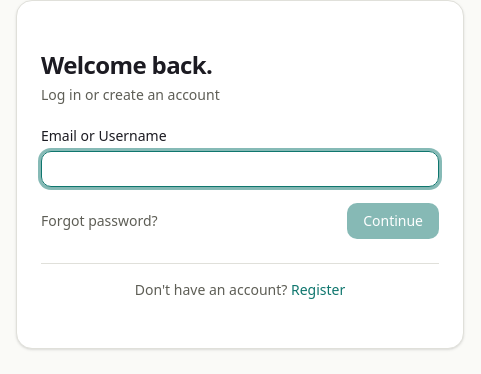
LoginCard second factors › keeps Continue disabled until the TOTP code has six characters
Type "teacher" into the field labelled "Email or Username".
click(240, 169); type("teacher")  # box [41,151,439,187]
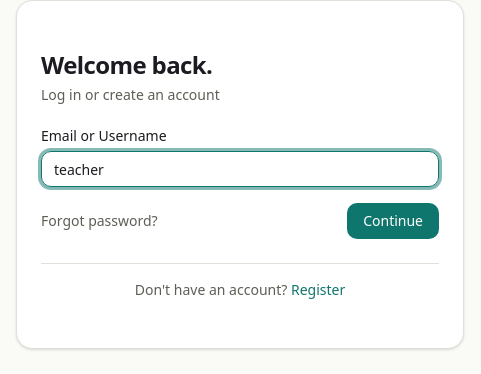
Click the button "Continue".
click(393, 221)  # box [347,203,439,239]
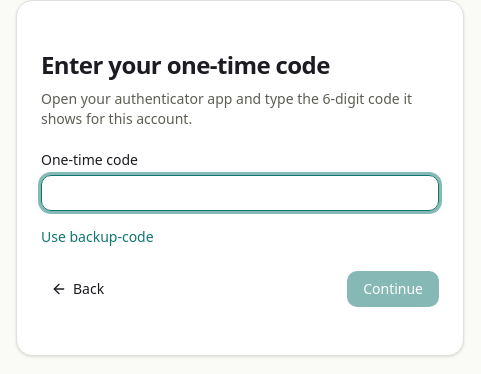
Type "12345" into the field labelled "One-time code".
click(240, 193); type("12345")  # box [41,175,439,211]
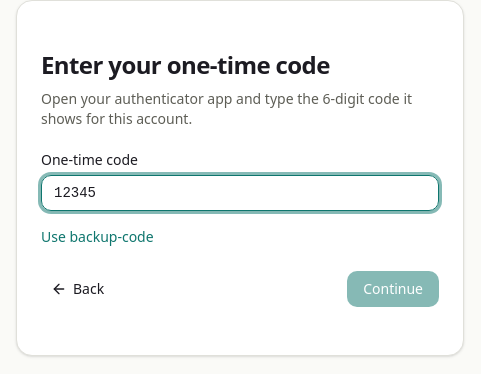
Now the button "Continue" is disabled, box [347,271,439,307]
Type "6" into the field labelled "One-time code".
click(240, 193); type("6")  # box [41,175,439,211]
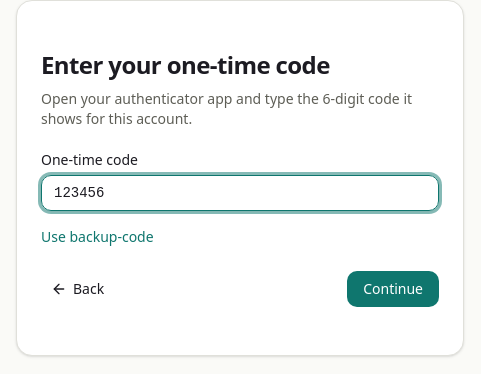
Now the button "Continue" is enabled, box [347,271,439,307]
